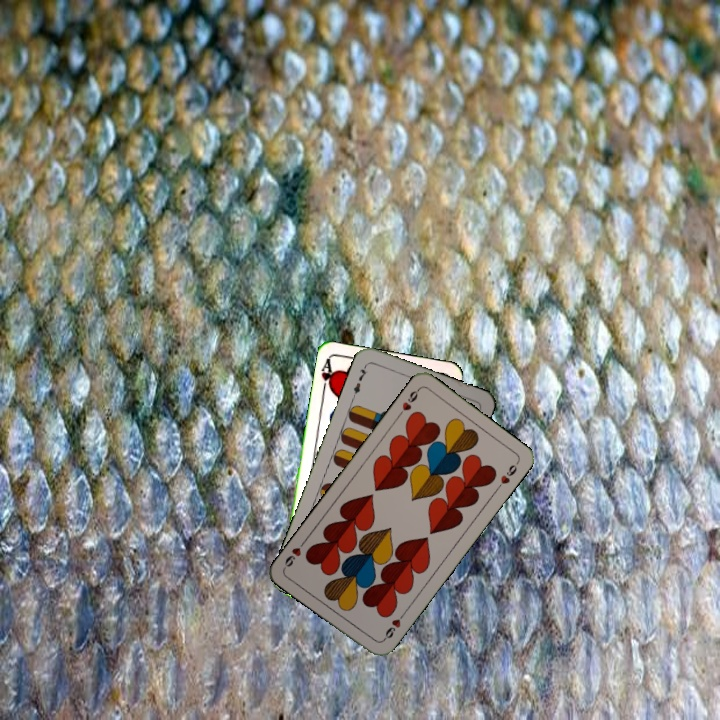E7: (349, 361, 370, 400)
H9: (394, 384, 422, 419), (379, 609, 407, 644)
HA: (317, 355, 338, 396)
